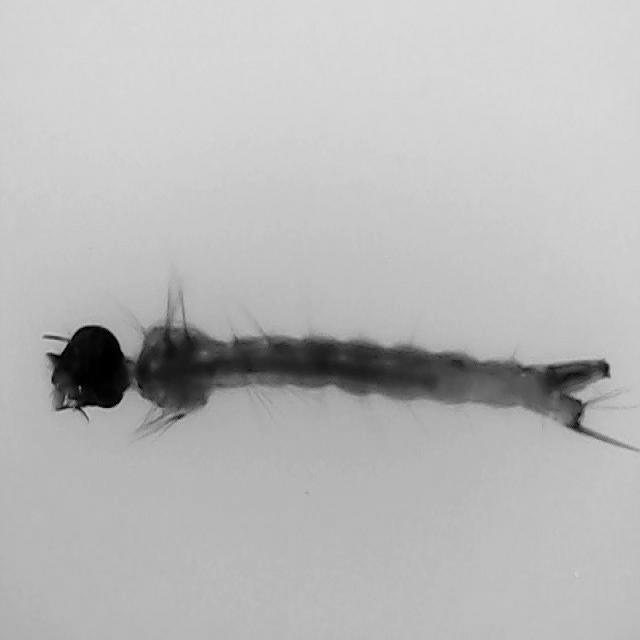larvas: (48, 325, 612, 427)
